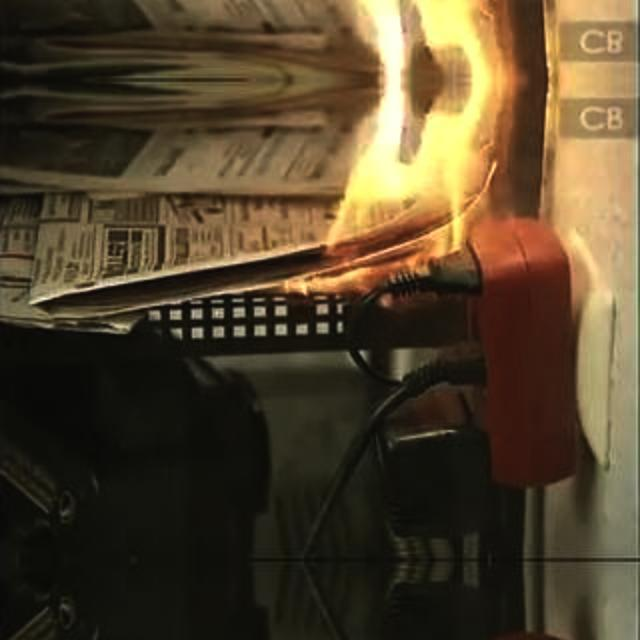smoke: (322, 0, 529, 301)
